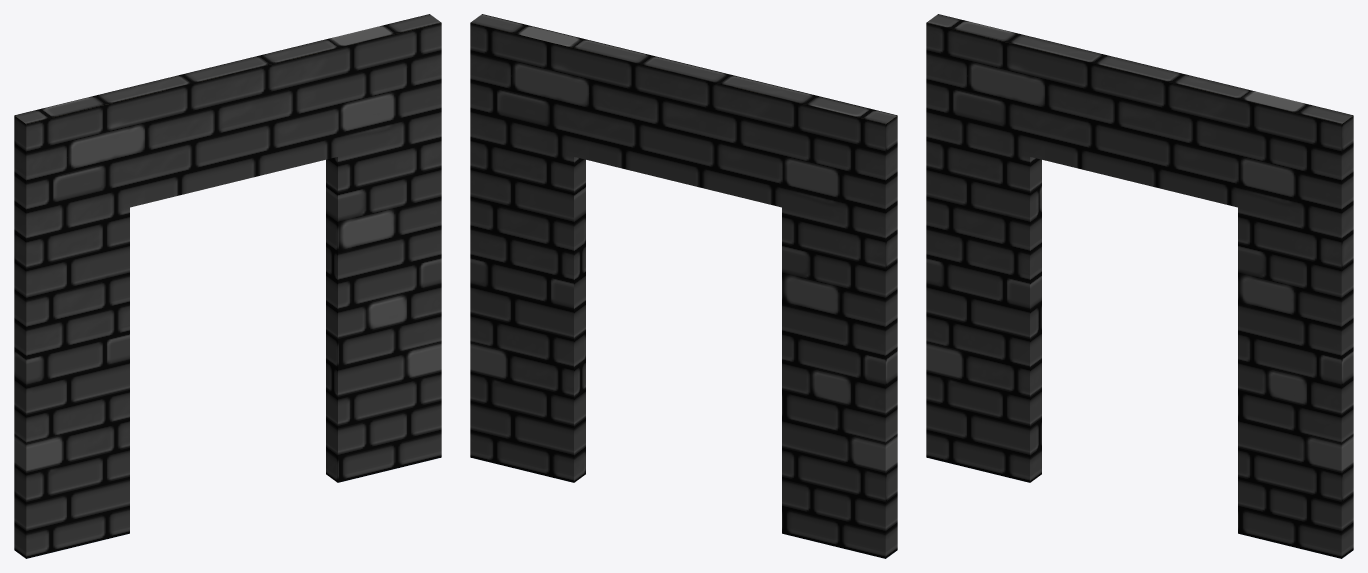
File: Wall_3_B.fbx
3 renders of one model, left to right at view 1: azimuth 30°, elevation 25°; view 2: azimuth 150°, elevation 25°; view 3: azimuth 330°, elevation 25°, orthographic.
Parts seen in each view (by area): view 1: pCube39; view 2: pCube39; view 3: pCube39.
Boxes of the visible parts, x1,y1,x2,y2 form: pCube39: (14,14,441,558); pCube39: (470,14,897,558); pCube39: (926,14,1353,558).
Size of the model in its own units: 4 by 4 by 0.2.
